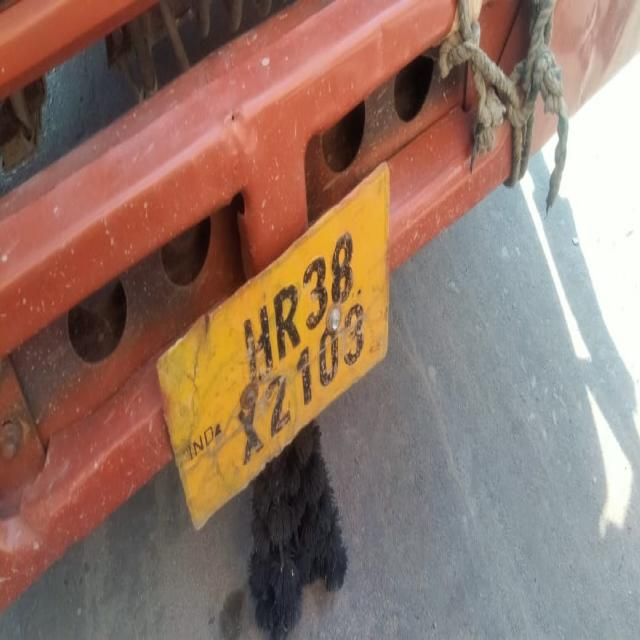License-plate: (215, 223, 388, 470)
